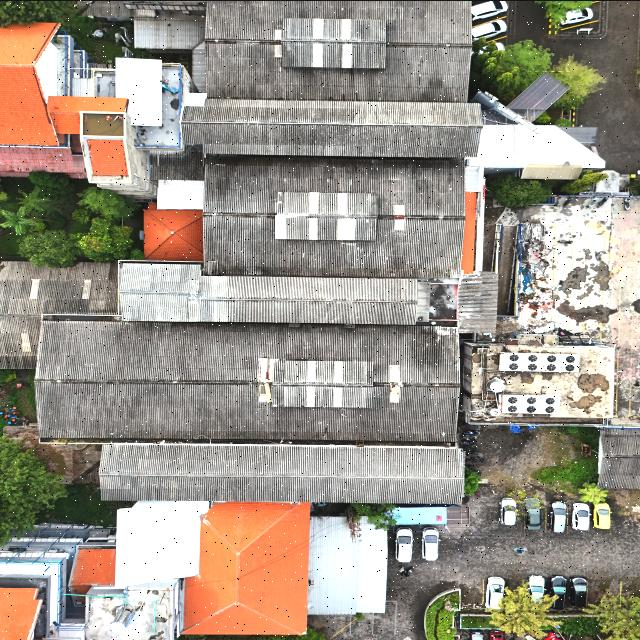Tree: (489, 588, 558, 638), (78, 217, 134, 260), (488, 170, 544, 210), (1, 204, 39, 235), (579, 480, 609, 504)
